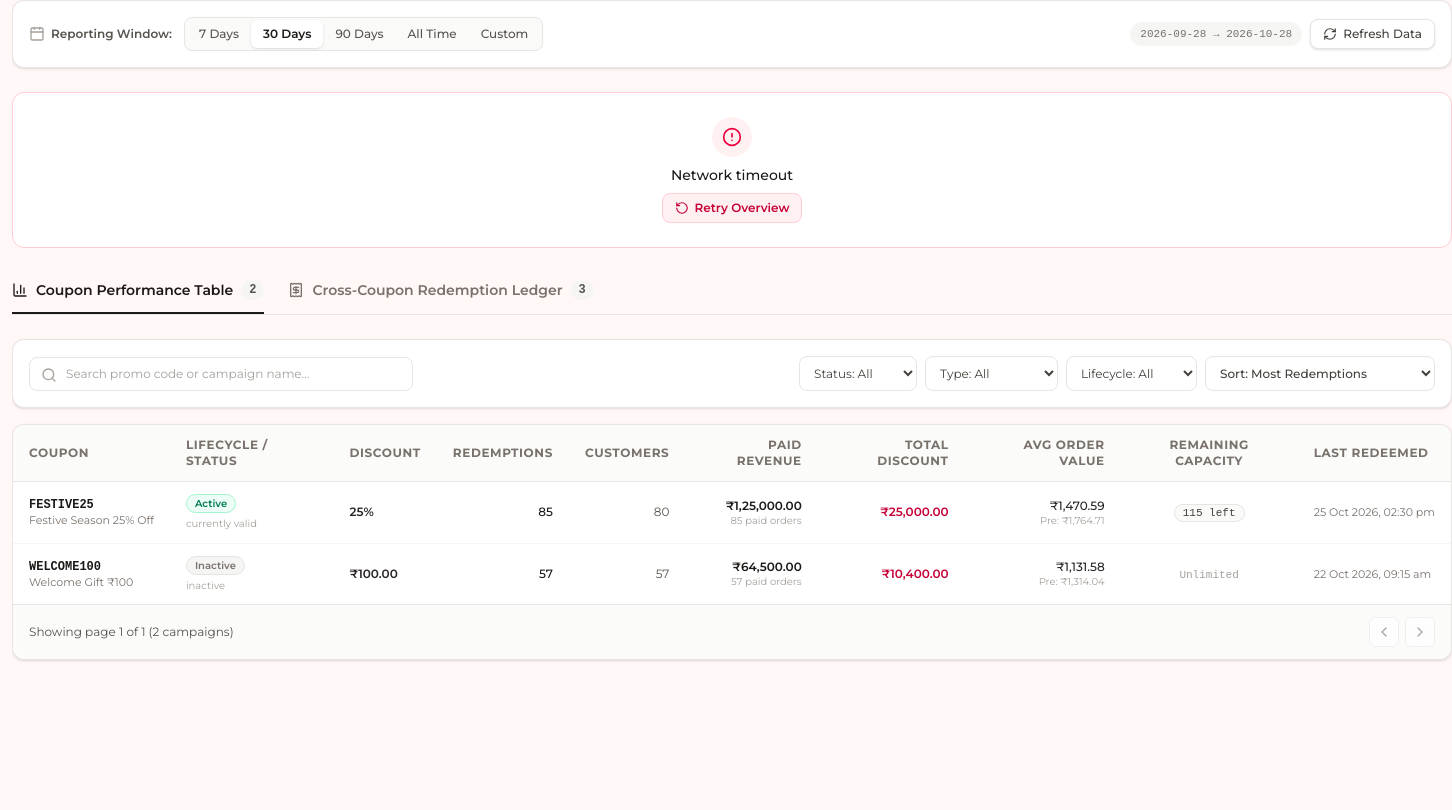
AdminCouponReportsView Component › handles overview error state with retry button
The width and height of the screenshot is (1452, 810).
Check: the text "Network timeout" is shown, box [671,166,793,184]
Check: the text "Retry Overview" is shown, box [694,200,789,216]
Click the button "Retry Overview" at (732, 208), box [662,193,802,223]
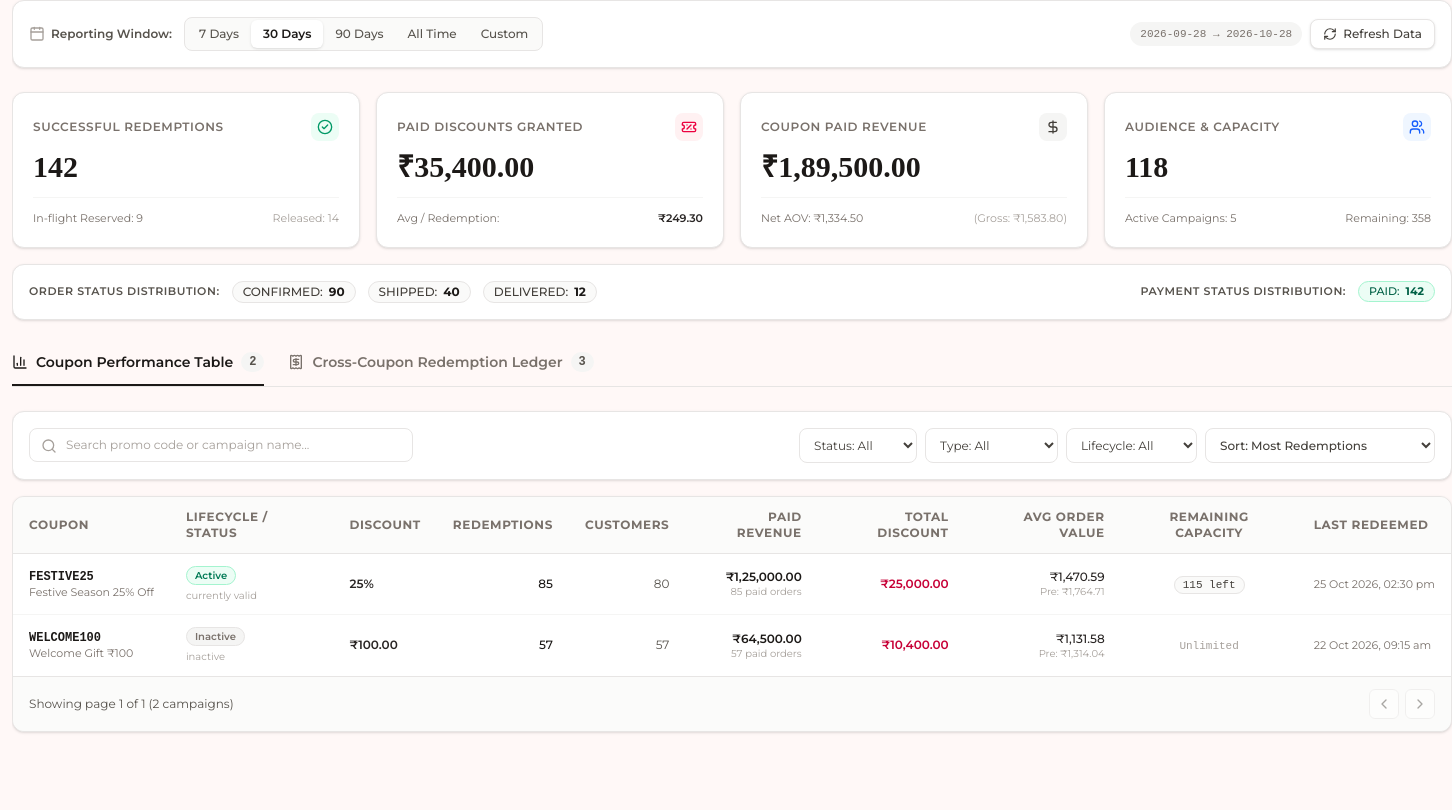
Check: the text "Successful Redemptions" is shown, box [33,119,224,135]
